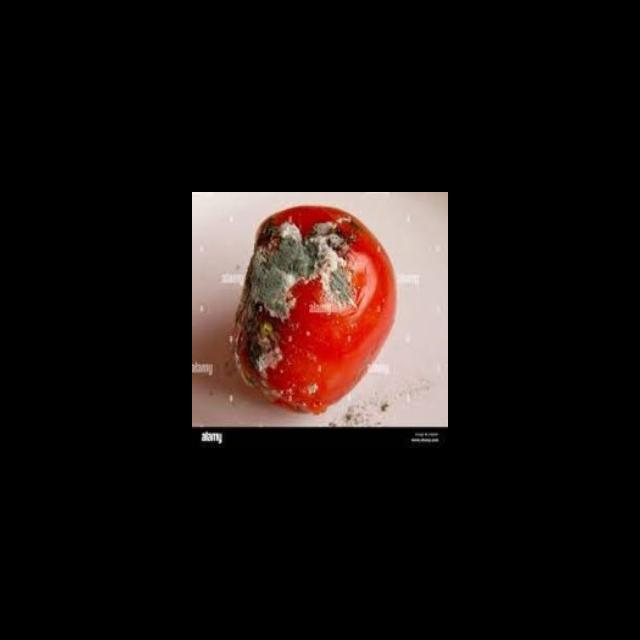tomato: (227, 201, 399, 414)
